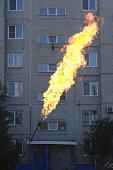Fire: (37, 1, 104, 119)
